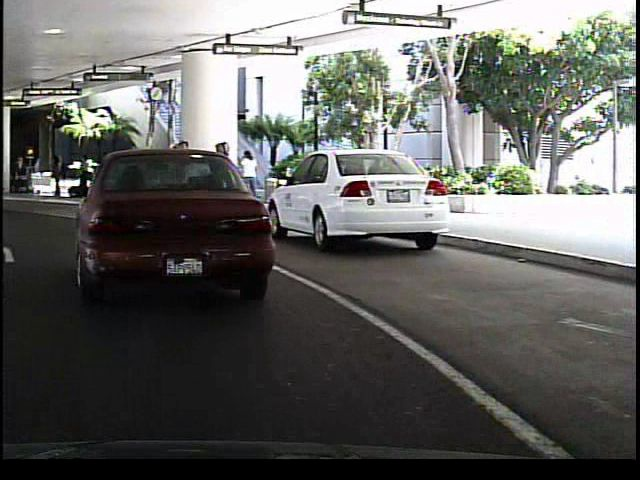person: (167, 134, 194, 207), (206, 136, 230, 210), (236, 145, 262, 205), (47, 149, 66, 202), (70, 155, 92, 196)
